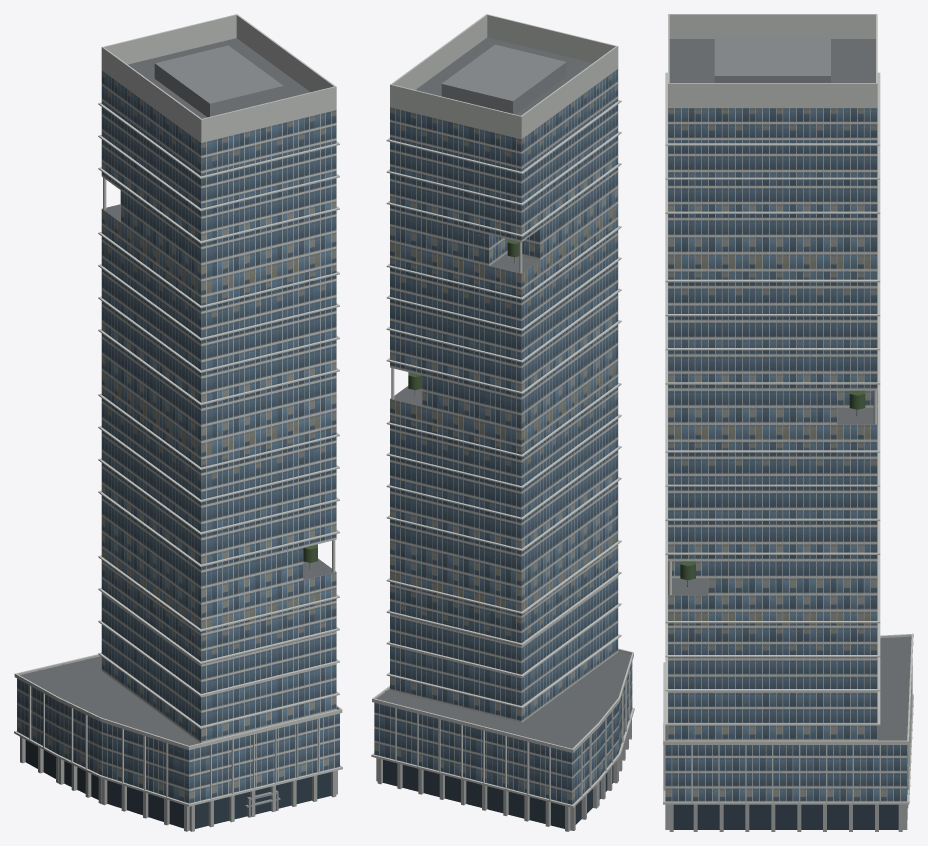
Rendered from park_tower.glb.
The picture shows the model from 3 angles, left to right: view 1: azimuth 30°, elevation 25°; view 2: azimuth 150°, elevation 25°; view 3: azimuth 270°, elevation 25°; orthographic projection. The views are drawn at different scales.
Parts seen in each view (by area): view 1: park_tower; view 2: park_tower; view 3: park_tower.
Part boxes in pixels (x1,y1,x2,y2): park_tower: (14, 14, 342, 831); park_tower: (371, 14, 634, 831); park_tower: (663, 14, 913, 831).
Size of the model in its own units: 57.06 by 184 by 56.
Materials: 2 (2 with a texture image).
